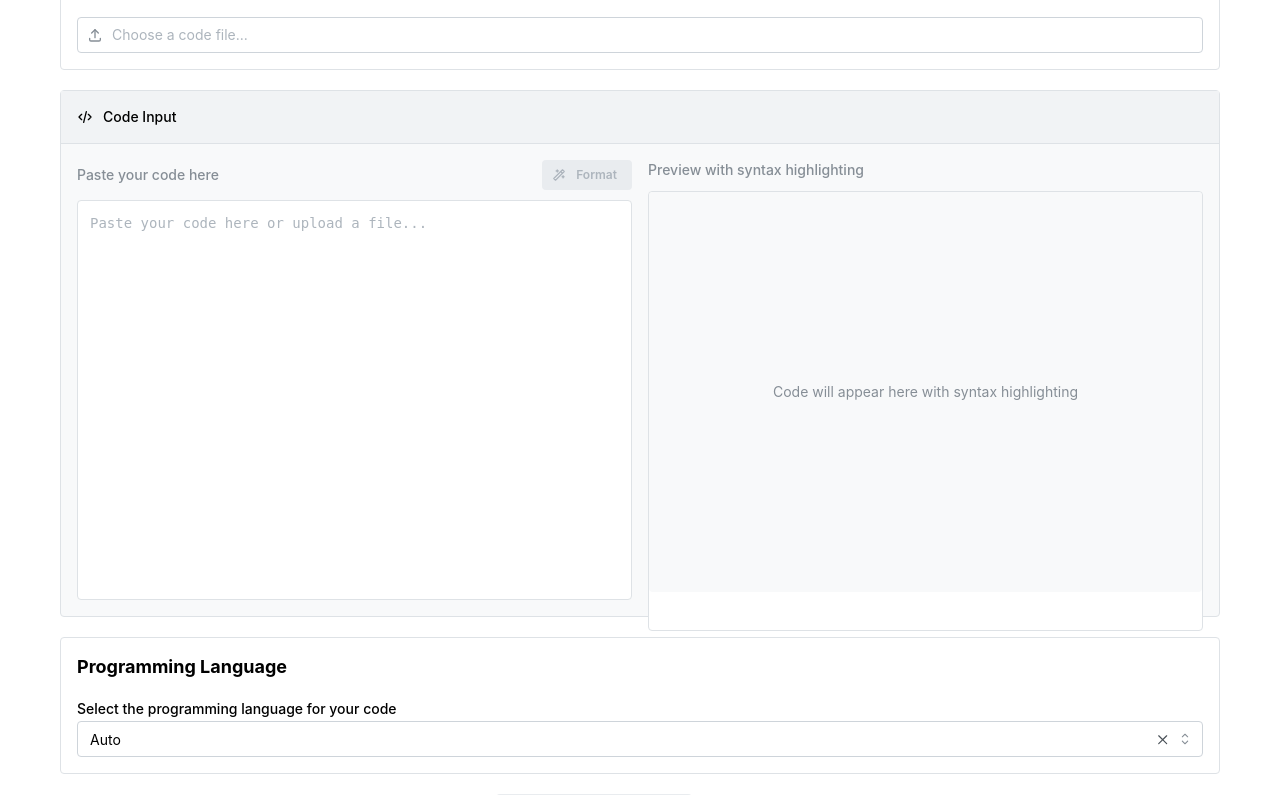
Test: CodeInput component › shows error when trying to submit without selecting language
The width and height of the screenshot is (1280, 795).
(page scrolled)
// Use simple text without special characters
Type "console.log(\"Hello\");" into the text box with placeholder "Paste your code here or upload a file...". click: (354, 400)
box: x1=77 y1=200 x2=632 y2=600
(page scrolled)
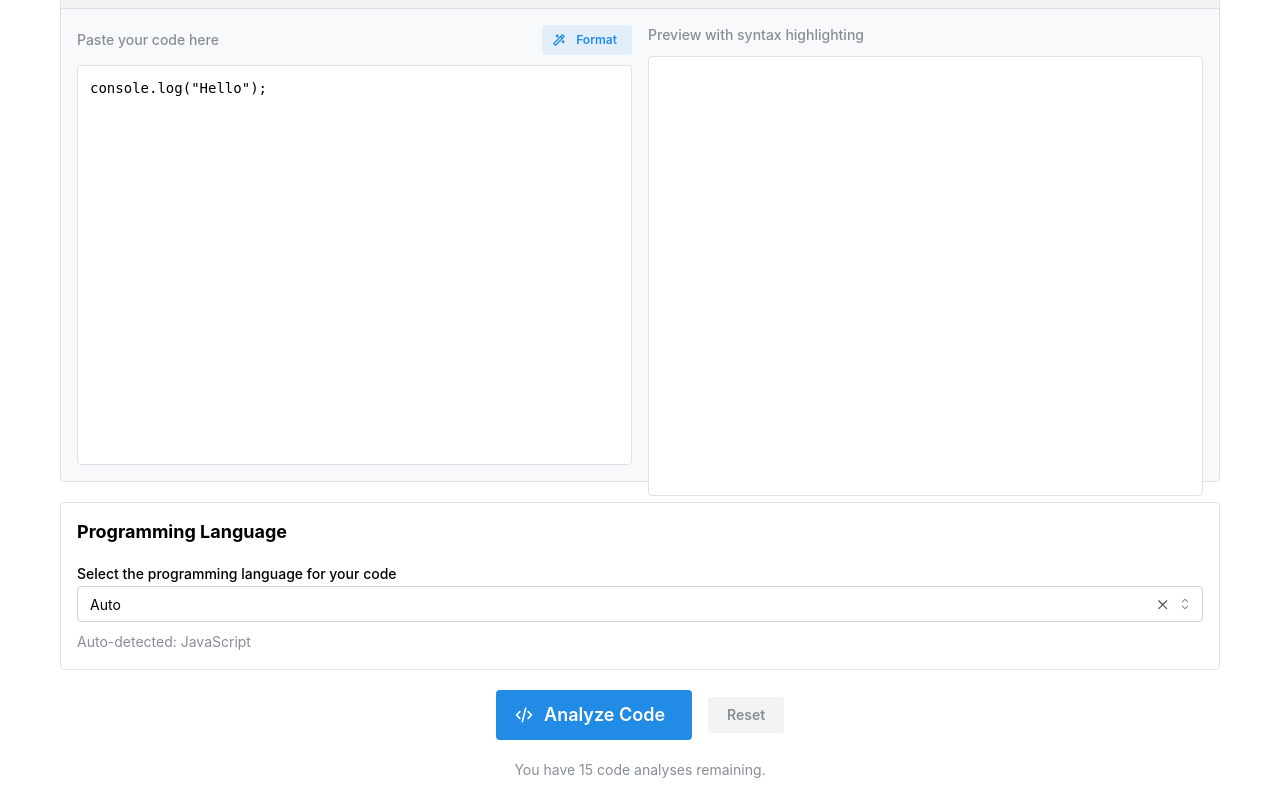
Expected: the button "Analyze Code" is enabled, x1=496 y1=690 x2=692 y2=740
